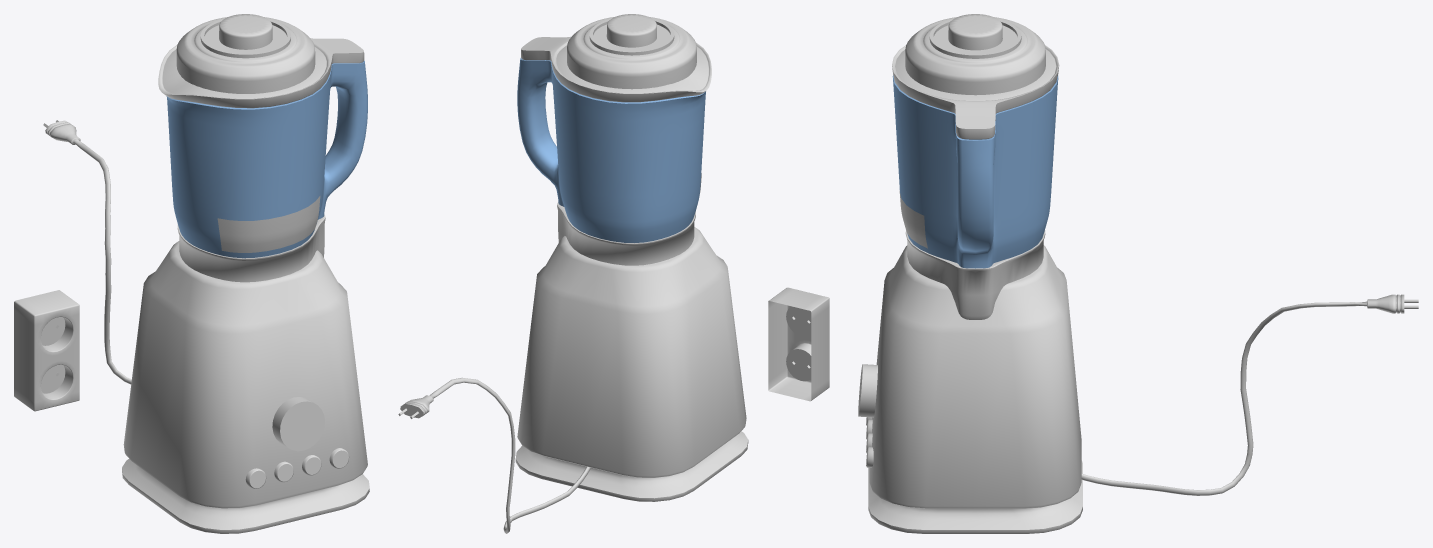
Rendered from BlenderJuicer_Dan_StopKontak.fbx.
3 renders of one model, left to right at view 1: azimuth 30°, elevation 25°; view 2: azimuth 150°, elevation 25°; view 3: azimuth 270°, elevation 25°, orthographic. The views are drawn at different scales.
Visible parts, largest first — view 1: BodyMesin_Blender, Glass_BlenderJuicer, Cylinder, StopKontak, Blender.001, DecalBlender, Timer, Circle, TombolTorsi; view 2: BodyMesin_Blender, Glass_BlenderJuicer, Cylinder, StopKontak, Blender.001, Circle; view 3: BodyMesin_Blender, Glass_BlenderJuicer, Cylinder, Blender.001, Circle, Timer, DecalBlender.
Part boxes in pixels (bbox=[...]): BodyMesin_Blender: bbox=[122, 215, 369, 533]; Glass_BlenderJuicer: bbox=[166, 60, 367, 258]; Cylinder: bbox=[176, 14, 315, 93]; StopKontak: bbox=[14, 290, 79, 411]; Blender.001: bbox=[158, 38, 364, 108]; DecalBlender: bbox=[217, 196, 320, 252]; Timer: bbox=[272, 397, 324, 451]; Circle: bbox=[43, 120, 131, 384]; TombolTorsi: bbox=[245, 448, 349, 488]; BodyMesin_Blender: bbox=[515, 202, 748, 501]; Glass_BlenderJuicer: bbox=[517, 58, 705, 242]; Cylinder: bbox=[567, 14, 696, 89]; StopKontak: bbox=[768, 287, 829, 401]; Blender.001: bbox=[521, 36, 711, 102]; Circle: bbox=[398, 377, 590, 533]; BodyMesin_Blender: bbox=[868, 230, 1082, 533]; Glass_BlenderJuicer: bbox=[892, 75, 1058, 268]; Cylinder: bbox=[905, 14, 1045, 95]; Blender.001: bbox=[892, 45, 1059, 139]; Circle: bbox=[1081, 294, 1418, 495]; Timer: bbox=[858, 364, 877, 417]; DecalBlender: bbox=[899, 191, 927, 248].
Bounding box in the file's own units: 36.82 × 49 × 53.62.
